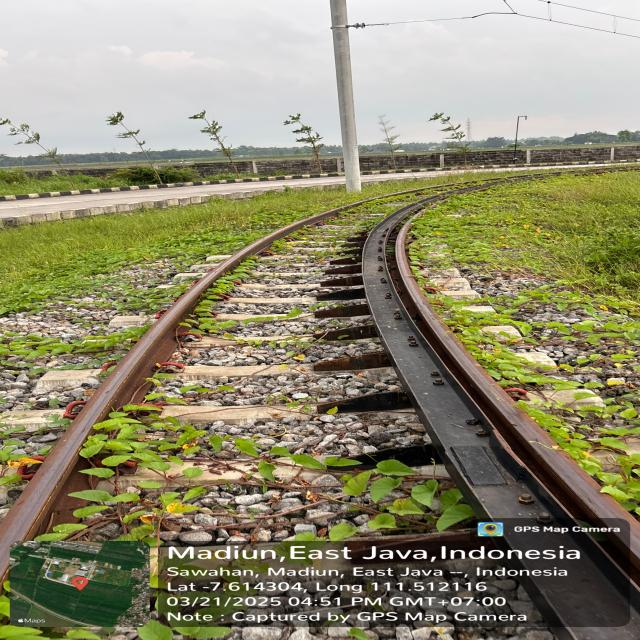rail-detection: (0, 201, 361, 579), (361, 195, 640, 640), (326, 173, 559, 363), (330, 181, 470, 212), (301, 190, 415, 224), (484, 177, 508, 182)
